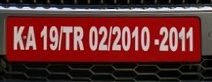0: (139, 26, 151, 52), (88, 25, 99, 51), (169, 25, 179, 53), (121, 27, 131, 52)
1: (39, 25, 48, 51), (178, 26, 187, 52), (186, 26, 195, 52), (131, 26, 140, 51)
2: (158, 25, 170, 51), (111, 26, 122, 51), (98, 26, 108, 51)
9: (48, 25, 59, 51)
A: (25, 25, 38, 52)
K: (11, 25, 25, 51)
R: (73, 25, 85, 51)
T: (61, 25, 73, 50)
